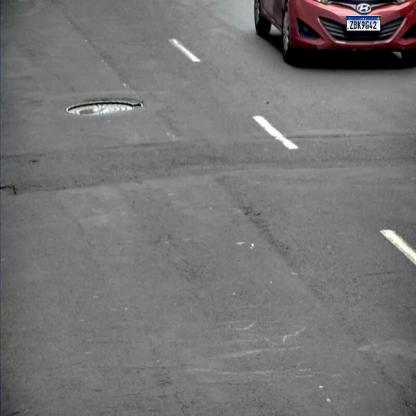PlacaM: (346, 16, 381, 31)
